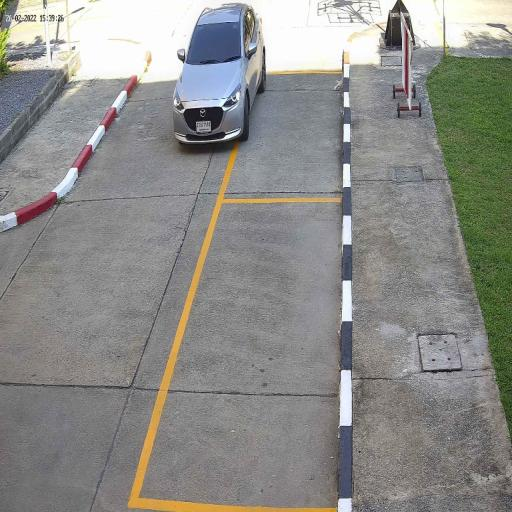car: (172, 2, 268, 146)
